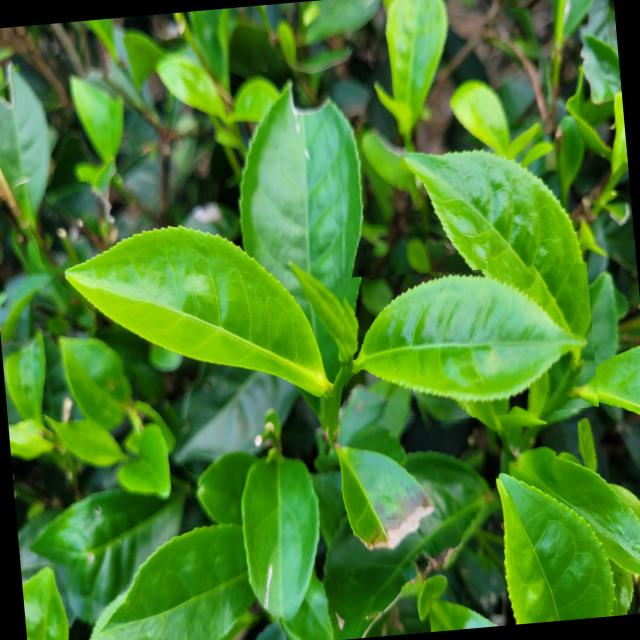Catagory A(1-2 days): (332, 255, 598, 428)
